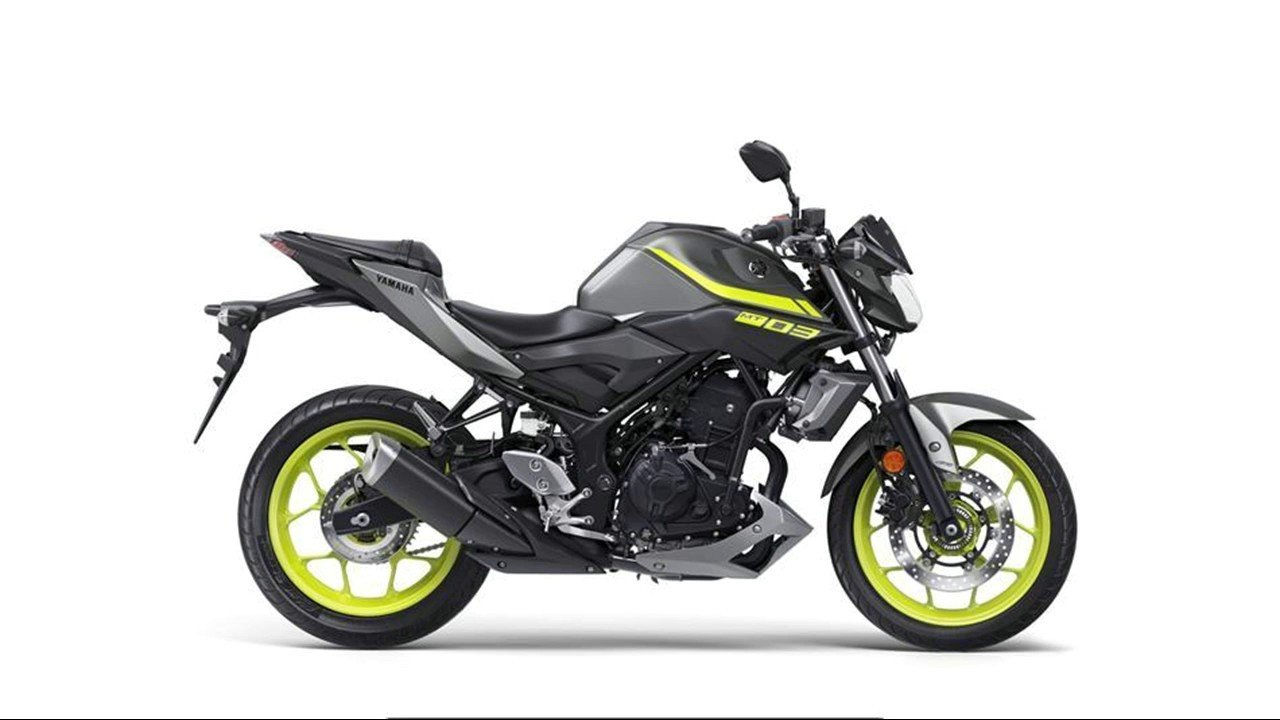motor: (191, 141, 1087, 653)
